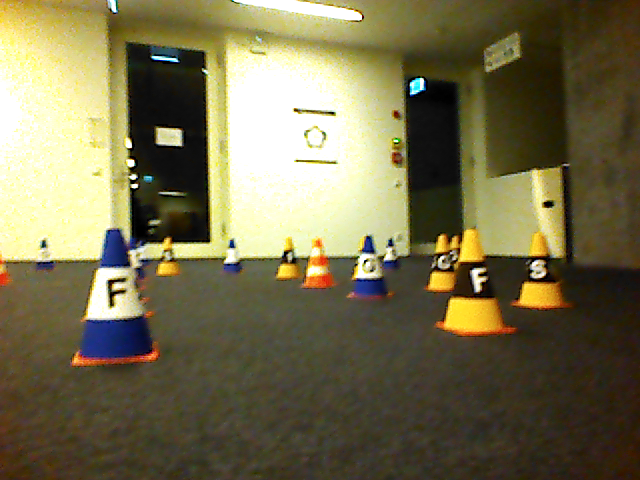bluecone: (69, 227, 160, 370)
yellowcone: (512, 234, 577, 311)
